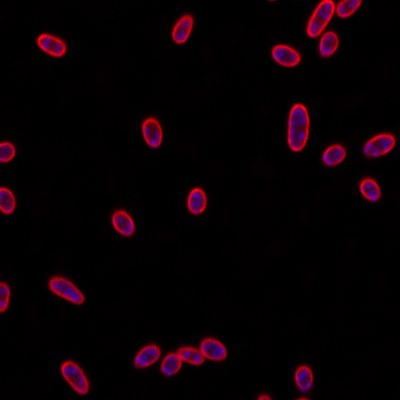MP265: (285, 101, 311, 152), (304, 0, 336, 38), (49, 275, 86, 305), (60, 358, 89, 395), (199, 335, 229, 362), (109, 208, 136, 237), (270, 43, 301, 67), (141, 116, 163, 149), (35, 33, 66, 56), (187, 186, 208, 217), (175, 343, 204, 365), (160, 351, 183, 376)
Oblique: (359, 132, 395, 157), (131, 343, 160, 369), (170, 15, 194, 45), (292, 363, 315, 392), (317, 30, 339, 59), (321, 144, 347, 167), (359, 177, 381, 201)
